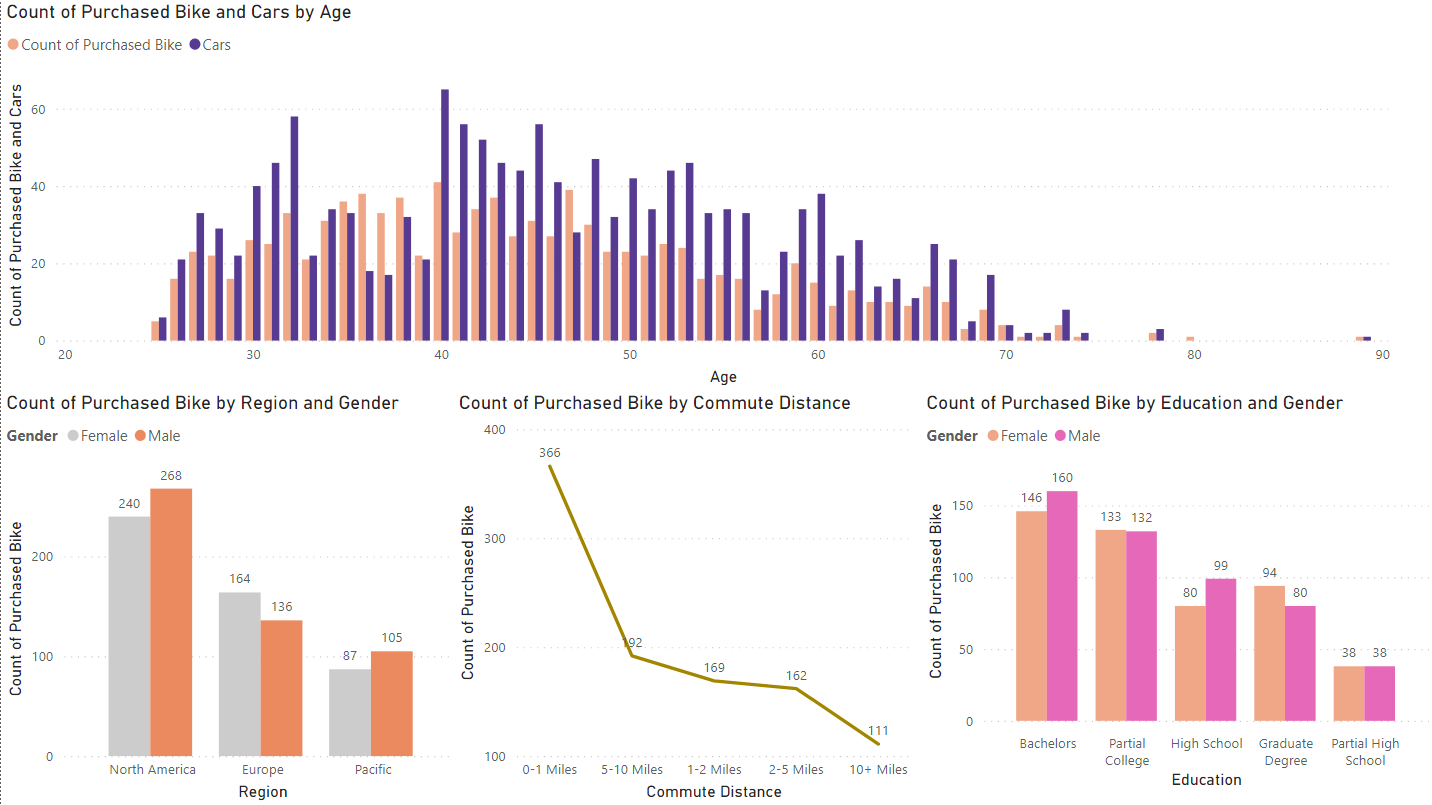

The page's visual inventory and layout, read from the dashboard file:
{"tool":"powerbi","page":{"name":"Page 1","canvas":[1280,720],"ordinal":0},"visuals":[{"type":"clusteredColumnChart","fields":{"Category":["bike_buyers.Region"],"Series":["bike_buyers.Gender"],"Y":["CountNonNull(bike_buyers.Purchased Bike)"]},"box":[0,348.8,416.1,370.8],"z":0},{"type":"clusteredColumnChart","fields":{"Y":["CountNonNull(bike_buyers.Purchased Bike)","Sum(bike_buyers.Cars)"],"Category":["bike_buyers.Age"]},"box":[0,0,1245.7,348.8],"z":1000},{"type":"clusteredColumnChart","fields":{"Series":["bike_buyers.Gender"],"Y":["CountNonNull(bike_buyers.Purchased Bike)"],"Category":["bike_buyers.Education"]},"box":[821.3,348.8,458.7,359.8],"z":2000},{"type":"lineChart","fields":{"Category":["bike_buyers.Commute Distance"],"Y":["CountNonNull(bike_buyers.Purchased Bike)"]},"box":[403.8,348.8,417.5,370.8],"z":3000}]}

Visuals, with their boxes in screenshot pixels (x1, y1, x2, y2), scaled from the page's 1280x720 canvas onto the 1432x805 screenshot:
clusteredColumnChart - bike_buyers.Region x bike_buyers.Gender: rect(0, 390, 466, 804)
clusteredColumnChart - CountNonNull(bike_buyers.Purchased Bike) x Sum(bike_buyers.Cars): rect(0, 0, 1394, 390)
clusteredColumnChart - bike_buyers.Gender x CountNonNull(bike_buyers.Purchased Bike): rect(919, 390, 1431, 792)
lineChart - bike_buyers.Commute Distance x CountNonNull(bike_buyers.Purchased Bike): rect(452, 390, 919, 804)
